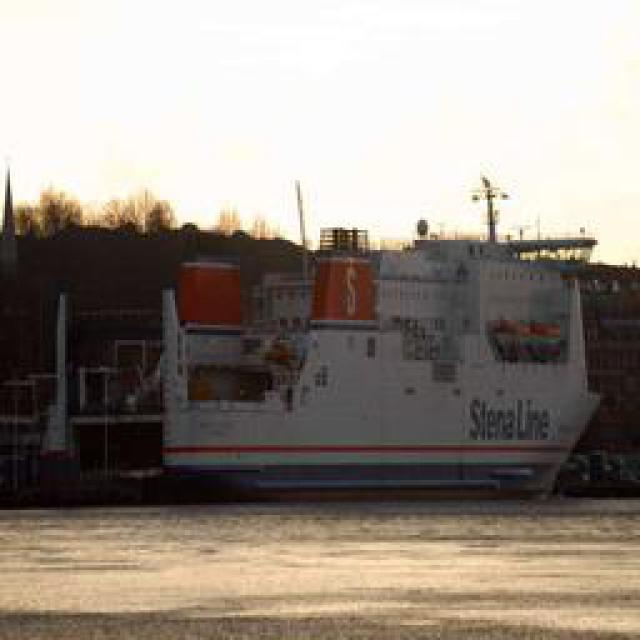Ship: (142, 198, 610, 503)
